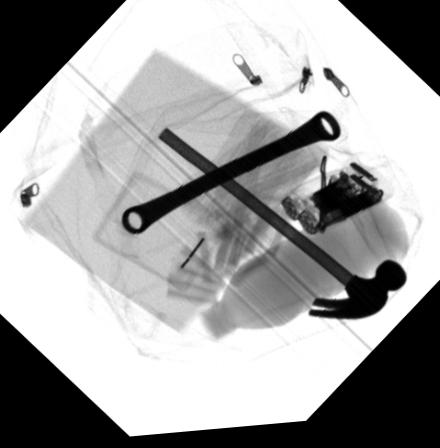Hammer: (158, 128, 405, 327)
Wrench: (119, 115, 340, 236)
